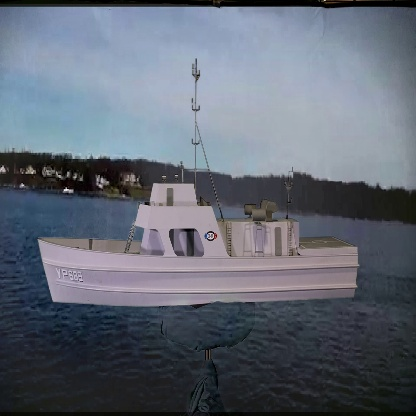YP689: (37, 50, 364, 306)
